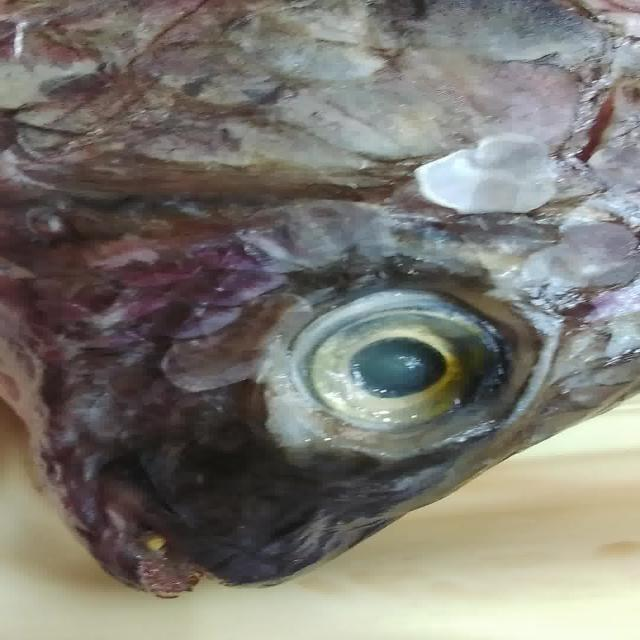Non-Fresh: (28, 10, 612, 257), (304, 282, 532, 443)
